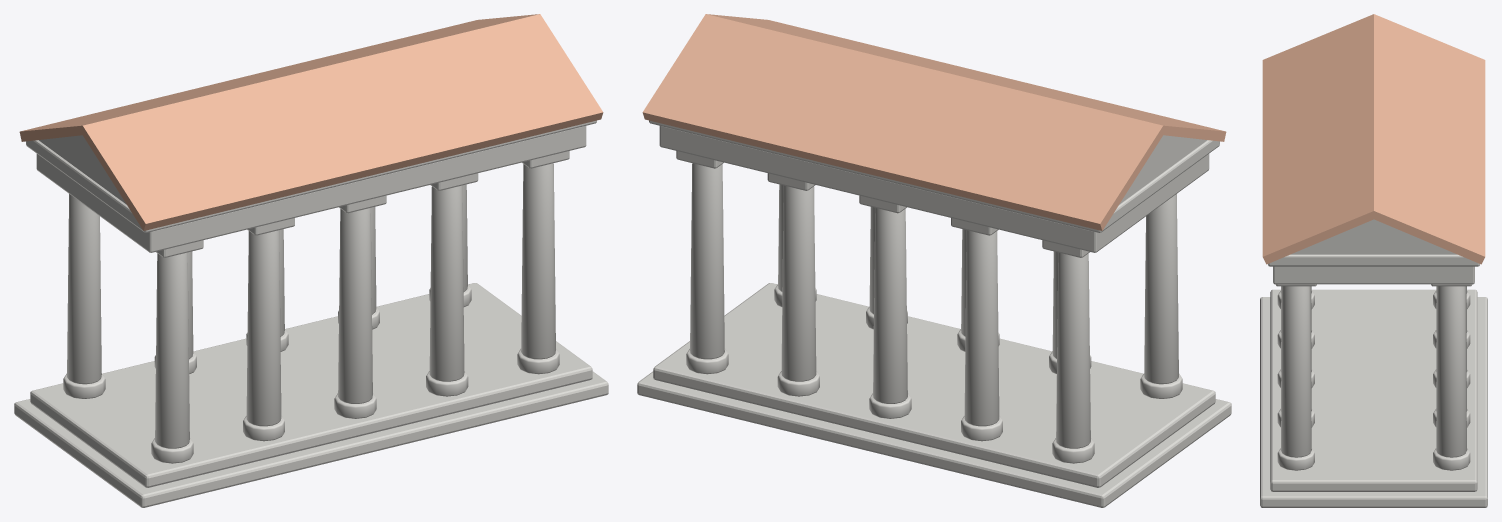
Rendered from lm_grecia_colonnade.glb.
3 renders of one model, left to right at view 1: azimuth 30°, elevation 25°; view 2: azimuth 150°, elevation 25°; view 3: azimuth 270°, elevation 25°, orthographic. The views are drawn at different scales.
Parts seen in each view (by area): view 1: lm_grecia_colonnade; view 2: lm_grecia_colonnade; view 3: lm_grecia_colonnade.
Part boxes in pixels (x1,y1,x2,y2): lm_grecia_colonnade: (14, 14, 608, 507); lm_grecia_colonnade: (637, 14, 1231, 507); lm_grecia_colonnade: (1260, 14, 1487, 507).
Bounding box in the file's own units: 9.2 × 6.31 × 4.4.
